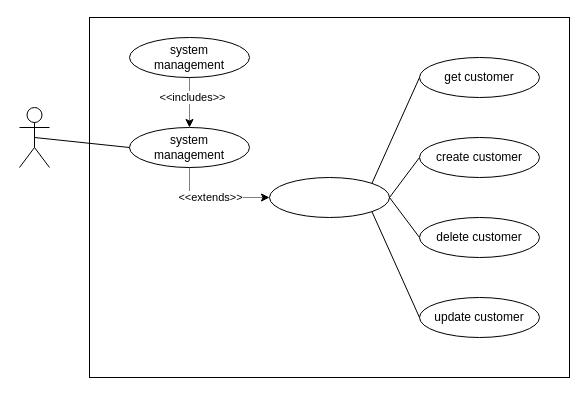
Image size: 587x395. Some labels were removed from this diagram. Here are the shapes that lost their labels. From the top down, the centre of each, then its label:
At (x=34, y=137): "Admin".
At (x=329, y=197): "customer management".
